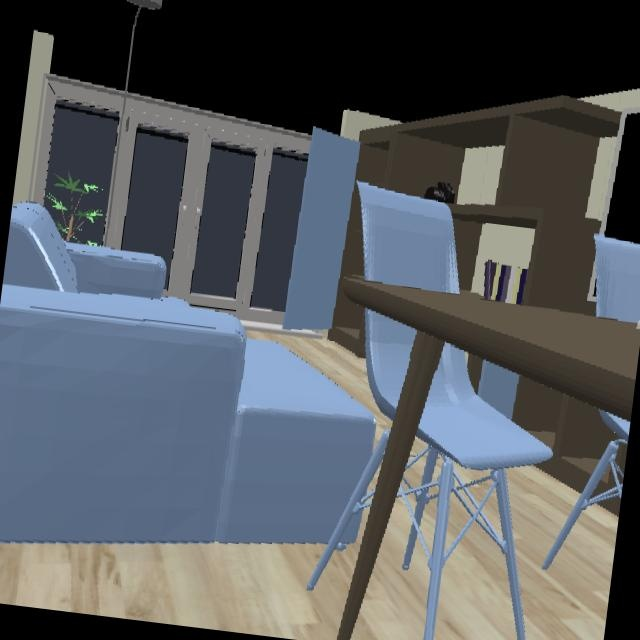book: (483, 260, 527, 305)
bookshelf: (328, 90, 640, 359), (475, 362, 614, 493)
chair: (418, 345, 552, 470), (358, 183, 459, 294), (364, 311, 416, 419), (593, 235, 640, 324)
sofa: (0, 221, 376, 545)
table: (336, 277, 640, 640), (340, 278, 640, 426)
